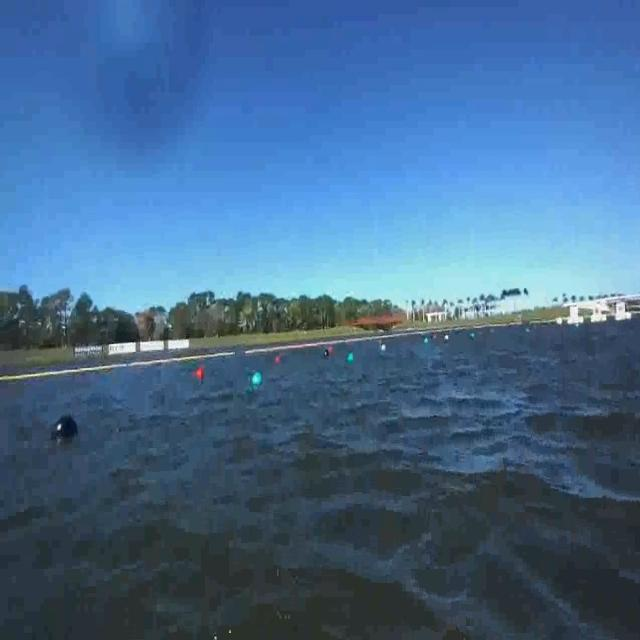black-buoy: (52, 413, 78, 442)
green-buoy: (346, 351, 359, 368), (252, 372, 262, 387)
red-buoy: (270, 352, 284, 368), (198, 366, 205, 378)
